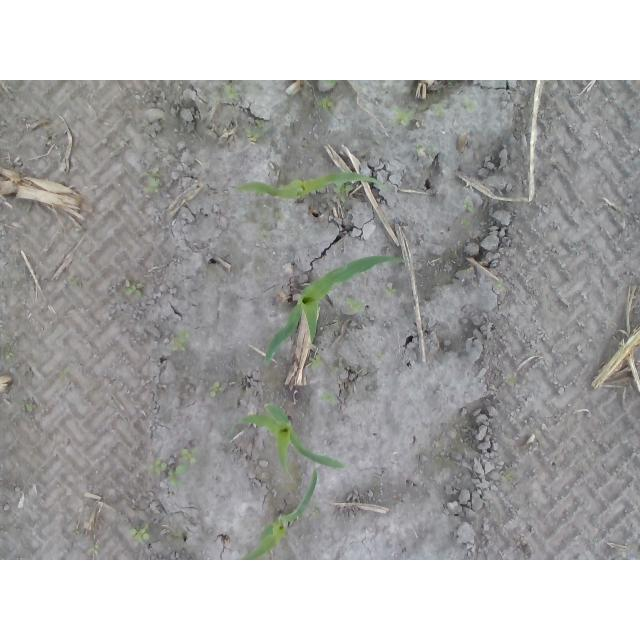Maize: (265, 252, 400, 366), (238, 400, 346, 472), (242, 469, 318, 560), (225, 171, 383, 203)
Weeds: (165, 465, 187, 488), (146, 168, 162, 193), (174, 329, 191, 352), (180, 447, 200, 465), (130, 526, 151, 543), (395, 109, 413, 127), (345, 296, 364, 313), (222, 83, 240, 99), (127, 281, 146, 296), (150, 460, 167, 475), (416, 144, 436, 156), (247, 129, 262, 144), (321, 96, 335, 112), (208, 383, 224, 397), (463, 198, 476, 214), (309, 356, 321, 369), (386, 284, 398, 296), (5, 346, 15, 360), (435, 106, 446, 118), (322, 394, 336, 402)
